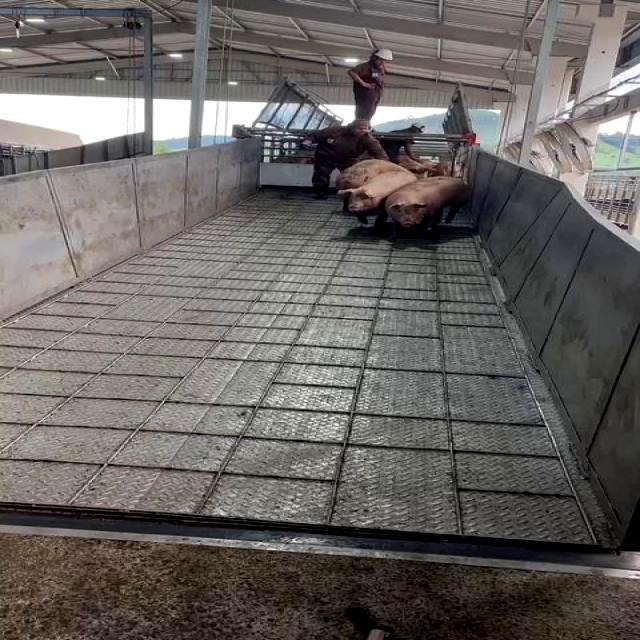pig: (386, 177, 471, 229), (351, 175, 412, 212), (337, 160, 405, 190)
